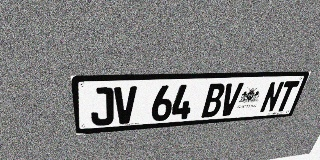4: (171, 84, 195, 120)
6: (151, 85, 175, 122)
B: (201, 83, 226, 118)
J: (89, 87, 113, 126)
N: (259, 81, 285, 113)
T: (273, 81, 300, 112)
V: (114, 86, 137, 125), (218, 83, 244, 116)
